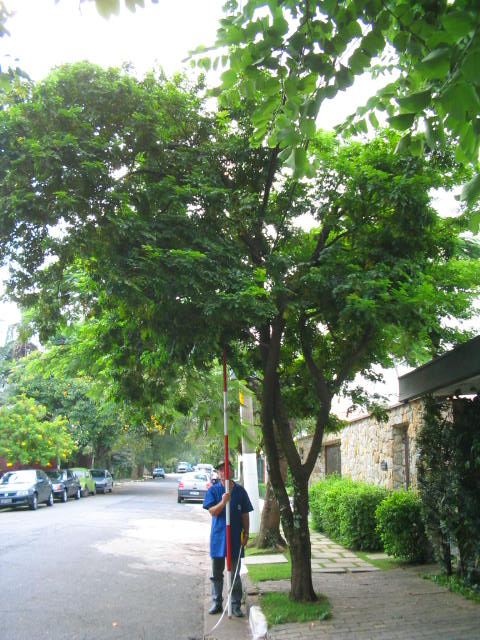crown: (4, 63, 469, 434)
stem: (274, 517, 322, 602)
stick: (216, 346, 236, 618)
tree: (1, 62, 473, 604)
